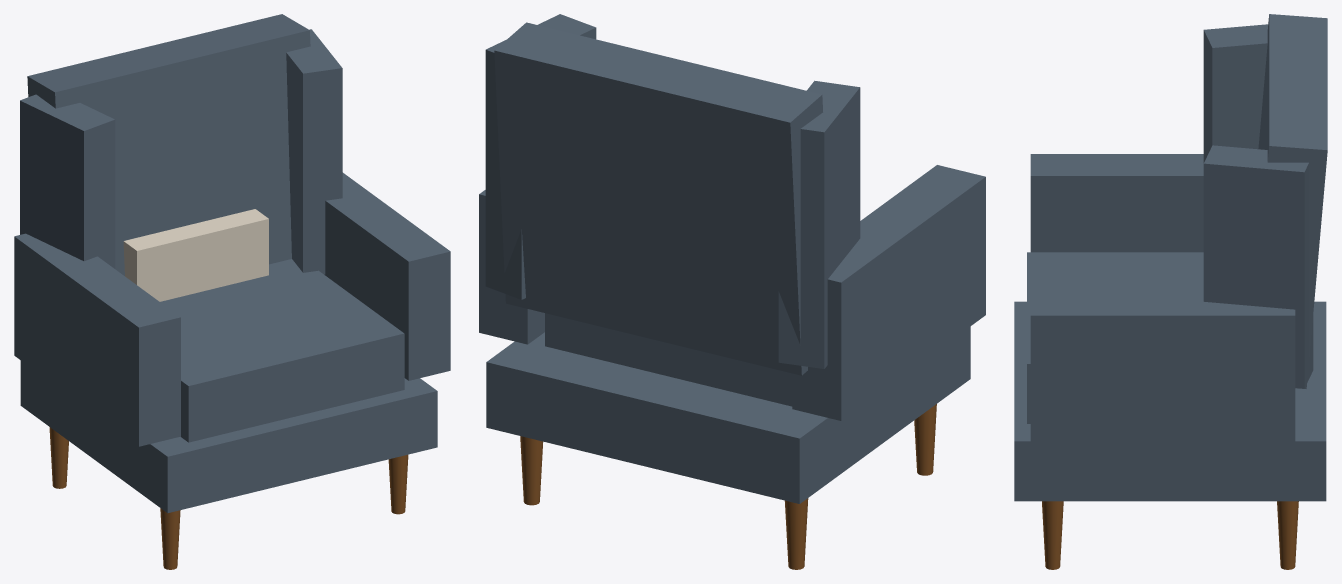
File: armchair.glb
The picture shows the model from 3 angles, left to right: view 1: azimuth 30°, elevation 25°; view 2: azimuth 150°, elevation 25°; view 3: azimuth 270°, elevation 25°; orthographic projection. The views are drawn at different scales.
Parts seen in each view (by area): view 1: Armchair, backrest, seat, accessory_lumbar; view 2: Armchair, backrest, seat; view 3: Armchair, backrest, seat.
Part boxes in pixels (<box>): Armchair: <box>14,29,450,569</box>; backrest: <box>27,14,310,275</box>; seat: <box>160,259,404,442</box>; accessory_lumbar: <box>123,209,268,301</box>; Armchair: <box>479,14,985,569</box>; backrest: <box>494,22,822,375</box>; seat: <box>545,313,792,406</box>; Armchair: <box>1014,24,1326,569</box>; backrest: <box>1258,14,1327,388</box>; seat: <box>1027,252,1203,423</box>.
Bounding box in the file's own units: 1.04 × 1.29 × 0.8535.
